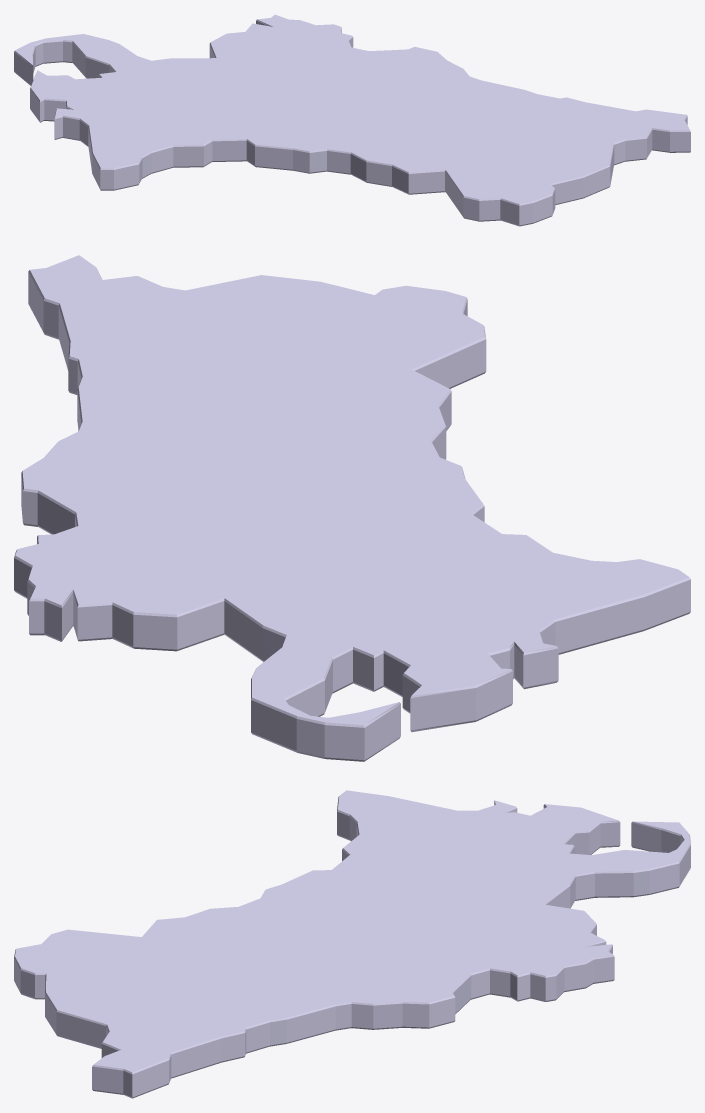
Rendered from TKM.glb.
3 views of the same model, one above another, from view 1: azimuth 30°, elevation 25°; view 2: azimuth 150°, elevation 25°; view 3: azimuth 270°, elevation 25° (orthographic). The views are drawn at different scales.
Size of the model in its own units: 1.58 by 0.068 by 1.59.
